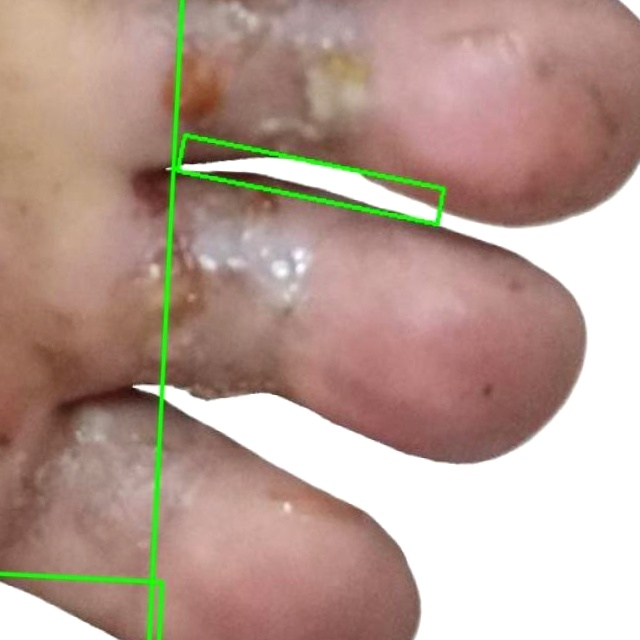Scabies: (149, 0, 639, 639), (177, 136, 444, 224)
